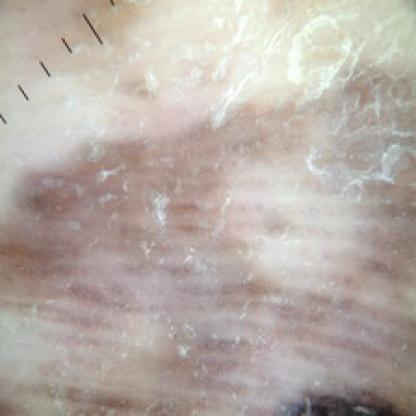malignant: (37, 136, 364, 332)
